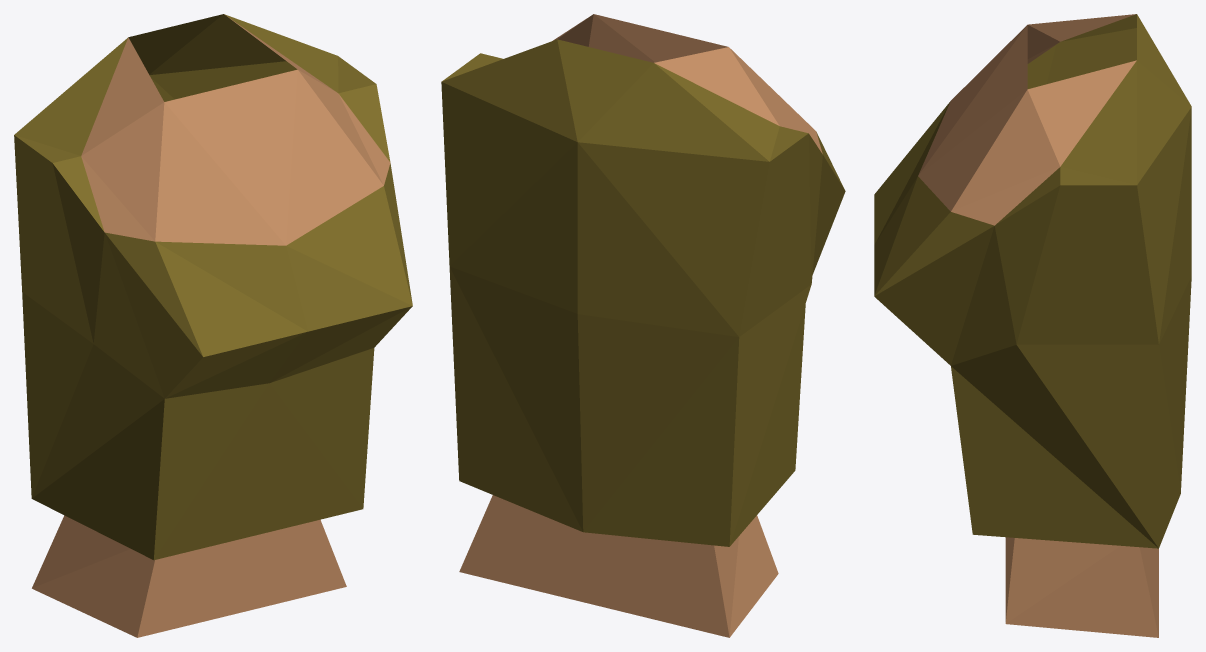
Rendered from model_456_idk.obj.
3 views of the same model, side by side, from view 1: azimuth 30°, elevation 25°; view 2: azimuth 150°, elevation 25°; view 3: azimuth 270°, elevation 25° (orthographic).
Visible parts, largest first — view 1: 456; view 2: 456; view 3: 456.
Part boxes in pixels (box(x1,y1,x2,y2)): 456: box(14, 14, 412, 637); 456: box(441, 14, 845, 637); 456: box(874, 14, 1191, 637).
Bounding box in the file's own units: 34 × 54 × 29.
